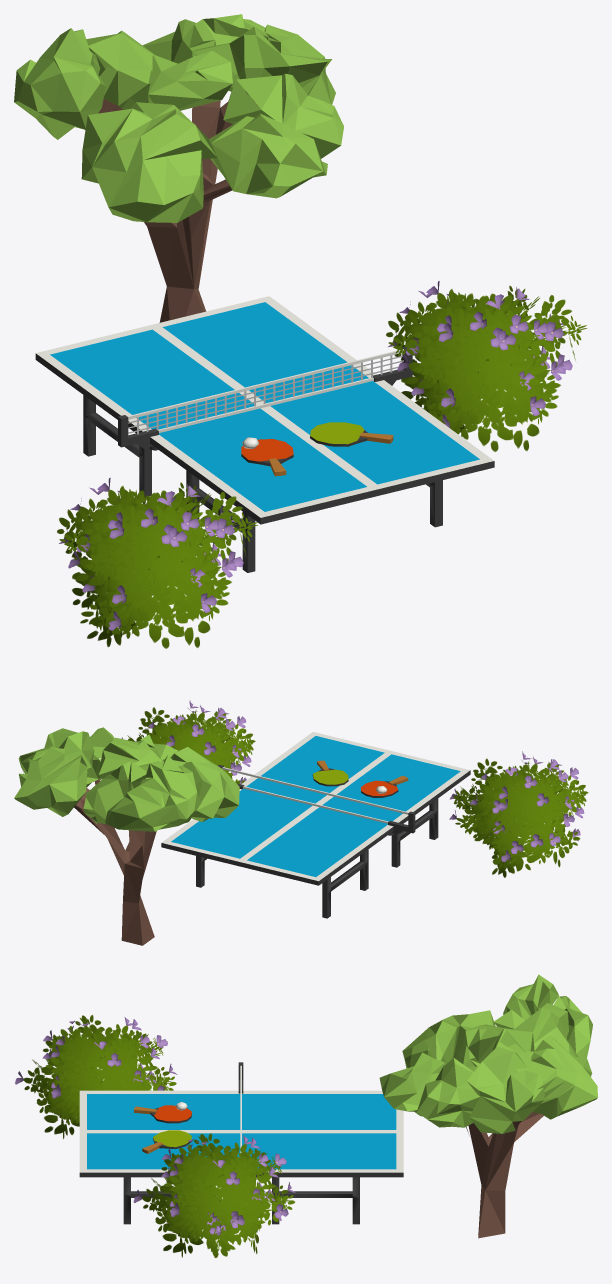
File: play.glb
3 views of the same model, one above another, from view 1: azimuth 30°, elevation 25°; view 2: azimuth 150°, elevation 25°; view 3: azimuth 270°, elevation 25° (orthographic). The views are drawn at different scales.
Visible parts, largest first — view 1: Node, Box125, Bush_Common_Flowers, Bush_Common_Flowers.001, Plane025, Plane033, Plane026, Line026, Plane031, Box126, Line025, Plane029; view 2: Box125, Node, Bush_Common_Flowers, Bush_Common_Flowers.001, Plane025, Plane033, Plane031, Line026, Line025, Box126; view 3: Node, Box125, Bush_Common_Flowers.001, Bush_Common_Flowers, Plane032, Line026, Line025, Plane030.
Part boxes in pixels (left/top/right/bottom): Node: left=14, top=14, right=343, bottom=322; Box125: left=35, top=296, right=494, bottom=524; Bush_Common_Flowers: left=57, top=478, right=257, bottom=648; Bush_Common_Flowers.001: left=386, top=281, right=587, bottom=451; Plane025: left=127, top=349, right=403, bottom=432; Plane033: left=83, top=395, right=151, bottom=496; Plane026: left=128, top=355, right=403, bottom=433; Line026: left=310, top=422, right=393, bottom=446; Plane031: left=186, top=470, right=255, bottom=572; Box126: left=118, top=346, right=412, bottom=450; Line025: left=241, top=439, right=293, bottom=476; Plane029: left=137, top=355, right=392, bottom=434; Box125: left=161, top=732, right=470, bottom=885; Node: left=14, top=727, right=239, bottom=945; Bush_Common_Flowers: left=449, top=751, right=588, bottom=877; Bush_Common_Flowers.001: left=121, top=700, right=255, bottom=784; Plane025: left=222, top=767, right=408, bottom=823; Plane033: left=322, top=849, right=368, bottom=918; Plane031: left=391, top=798, right=438, bottom=867; Line026: left=312, top=760, right=348, bottom=786; Line025: left=361, top=775, right=408, bottom=797; Box126: left=218, top=765, right=415, bottom=835; Node: left=379, top=974, right=597, bottom=1238; Box125: left=79, top=1090, right=403, bottom=1177; Bush_Common_Flowers.001: left=133, top=1133, right=295, bottom=1257; Bush_Common_Flowers: left=15, top=1014, right=177, bottom=1139; Plane032: left=272, top=1177, right=359, bottom=1224; Line026: left=142, top=1130, right=191, bottom=1153; Line025: left=134, top=1105, right=191, bottom=1123; Plane030: left=123, top=1177, right=172, bottom=1224.
Bounding box in the file's own units: 17.64 × 9.65 × 20.32.
Materials: 13 (4 with a texture image).
